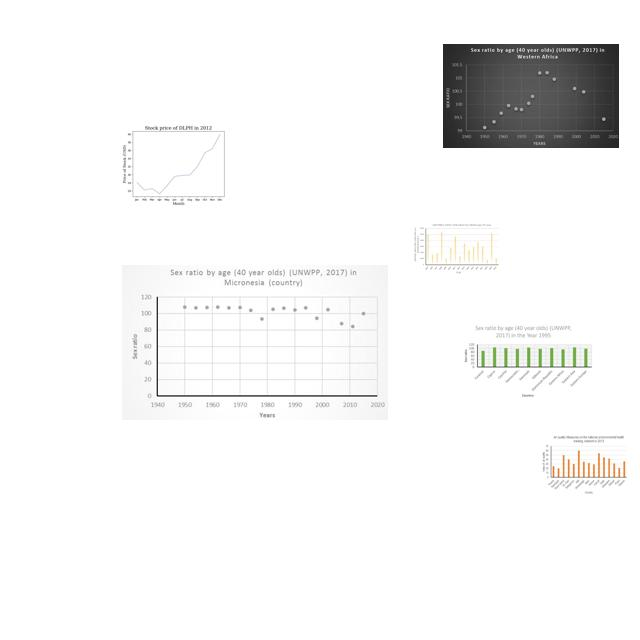Graph: (122, 265, 388, 420), (443, 44, 619, 148), (118, 119, 236, 208), (461, 324, 594, 398), (540, 434, 629, 495), (413, 223, 500, 274)
